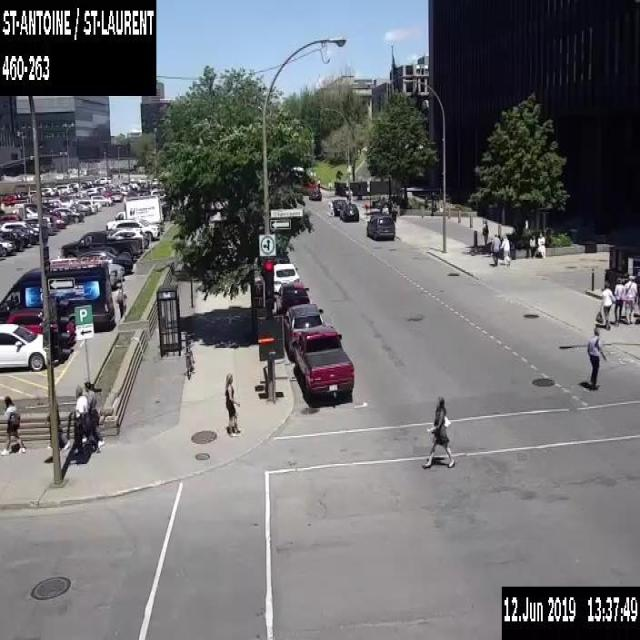pedestrian: (420, 395, 455, 468), (0, 393, 24, 456), (44, 401, 68, 462), (83, 380, 103, 451), (69, 386, 88, 456), (586, 326, 607, 388), (224, 370, 240, 434), (595, 280, 615, 328), (623, 274, 637, 324), (613, 275, 625, 325), (499, 233, 511, 266), (115, 284, 126, 317), (489, 233, 500, 265), (536, 231, 545, 258), (528, 233, 537, 257), (482, 220, 488, 247), (327, 200, 333, 216), (381, 203, 388, 213), (347, 188, 351, 201)
vehicle: (0, 255, 115, 328), (294, 324, 354, 397), (6, 306, 74, 344), (61, 230, 142, 258), (106, 192, 164, 231), (0, 322, 46, 370), (283, 302, 323, 356), (76, 245, 132, 272), (274, 282, 309, 314), (111, 217, 160, 239), (1, 220, 38, 244), (107, 227, 150, 247), (273, 262, 299, 294), (366, 212, 394, 240), (27, 213, 54, 234), (0, 230, 27, 250), (51, 206, 83, 222), (0, 191, 29, 206), (108, 262, 124, 287), (12, 202, 35, 218), (69, 202, 97, 215), (339, 202, 358, 220), (0, 235, 15, 255), (76, 198, 102, 208), (150, 187, 165, 204), (330, 197, 345, 214), (90, 194, 112, 205), (0, 212, 22, 223), (52, 182, 72, 194), (48, 198, 68, 209), (272, 253, 289, 265), (51, 215, 66, 228), (308, 187, 321, 200), (110, 189, 123, 201), (42, 200, 58, 209), (59, 193, 76, 201), (84, 187, 100, 195), (74, 189, 88, 198), (70, 180, 82, 190), (94, 176, 111, 183), (120, 179, 130, 190), (50, 188, 59, 196), (40, 189, 50, 196), (52, 186, 61, 193), (94, 185, 106, 190), (41, 186, 51, 191)
